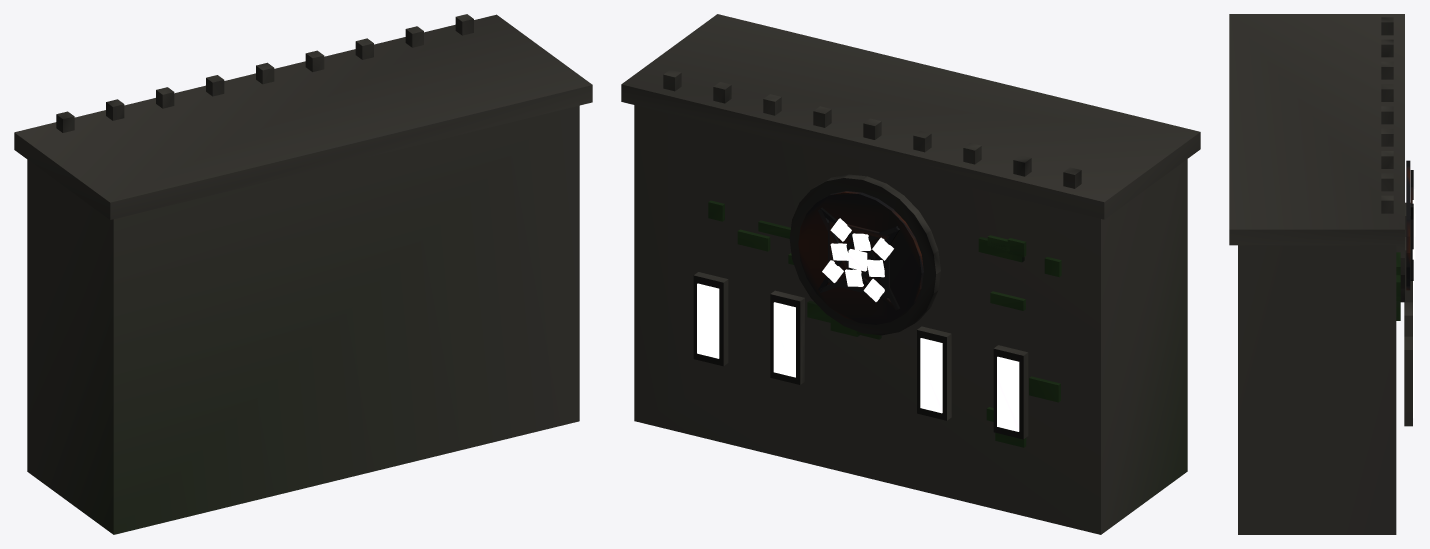
The model's file is abbey.glb.
3 views of the same model, side by side, from view 1: azimuth 30°, elevation 25°; view 2: azimuth 150°, elevation 25°; view 3: azimuth 270°, elevation 25° (orthographic). The views are drawn at different scales.
Parts seen in each view (by area): view 1: abbey; view 2: abbey; view 3: abbey.
Part boxes in pixels (x1,y1,x2,y2): abbey: (14,14,592,534); abbey: (621,14,1200,534); abbey: (1229,14,1415,534).
Size of the model in its own units: 14.5 by 10.1 by 5.3.
